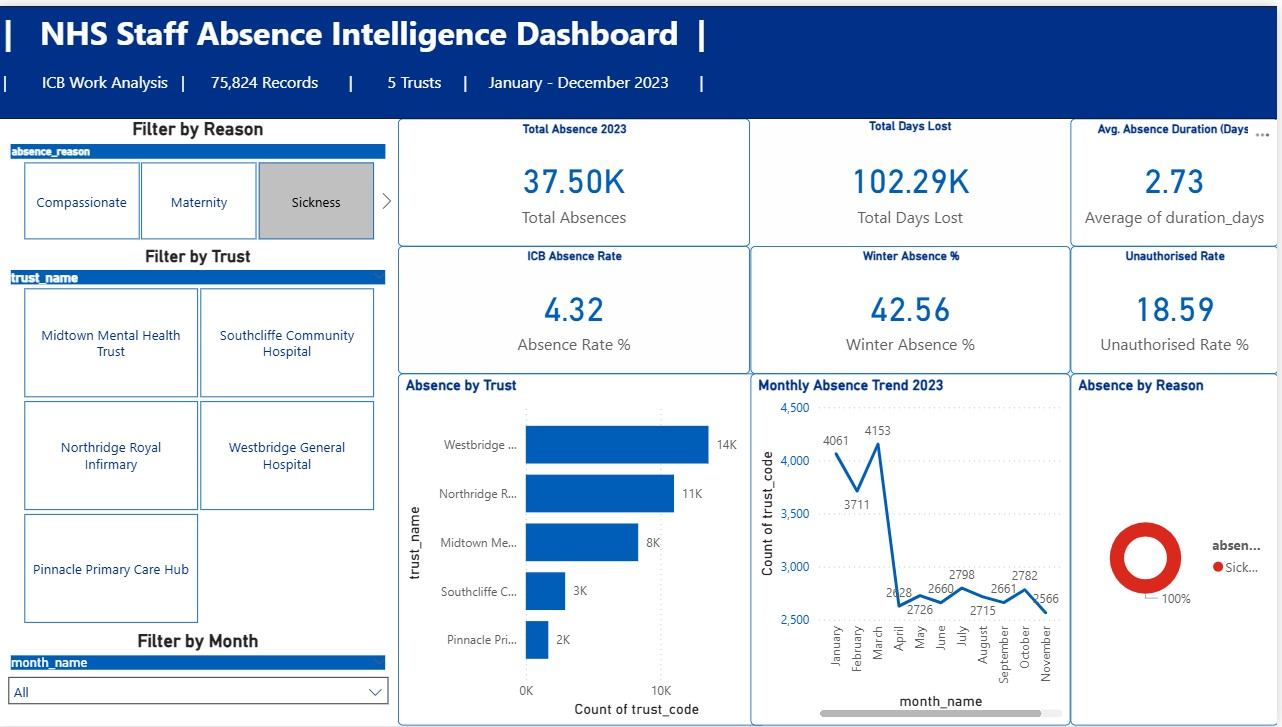

Layout of this report page (visuals, bound fields, positions):
{"tool":"powerbi","page":{"name":"Page 1","canvas":[1280,720],"ordinal":0},"visuals":[{"type":"card","title":"Total Absence 2023","fields":{"Values":["_Measures.Total Absences"]},"box":[400,112,352,128],"z":0},{"type":"card","title":"Total Days Lost","fields":{"Values":["_Measures.Total Days Lost"]},"box":[752,112,320,128],"z":1000},{"type":"card","title":"Avg.  Absence Duration (Days)","fields":{"Values":["Avg(nhs_staff_absence.duration_days)"]},"box":[1072,112,208,128],"z":2000},{"type":"clusteredBarChart","title":"Absence by Trust","fields":{"Category":["nhs_staff_absence.trust_name"],"Y":["CountNonNull(nhs_staff_absence.trust_code)"]},"box":[400,368,368,352],"z":3000},{"type":"lineChart","title":"Monthly Absence Trend 2023","fields":{"Y":["CountNonNull(nhs_staff_absence.trust_code)"],"Category":["nhs_staff_absence.month_name"]},"box":[752,368,320,352],"z":4000},{"type":"donutChart","title":"Absence by Reason","fields":{"Category":["nhs_staff_absence.absence_reason"],"Y":["CountNonNull(nhs_staff_absence.trust_code)"]},"box":[1072,368,208,352],"z":5000},{"type":"slicer","title":"Filter by Trust","fields":{"Values":["nhs_staff_absence.trust_name"]},"box":[0,240,400,384],"z":6000},{"type":"slicer","title":"Filter by Reason","fields":{"Values":["nhs_staff_absence.absence_reason"]},"box":[0,112,400,128],"z":7000},{"type":"slicer","title":"Filter by Month","fields":{"Values":["nhs_staff_absence.month_name"]},"box":[0,624,400,96],"z":8000},{"type":"card","title":"ICB Absence Rate","fields":{"Values":["_Measures.Absence Rate %"]},"box":[400,240,352,128],"z":9000},{"type":"card","title":"Winter Absence %","fields":{"Values":["_Measures.Winter Absence %"]},"box":[752,240,320,128],"z":10000},{"type":"card","title":"Unauthorised Rate","fields":{"Values":["_Measures.Unauthorised Rate %"]},"box":[1072,240,208,128],"z":11000},{"type":"textbox","box":[0,0,1280,112],"z":12000}]}

Visuals, with their boxes in screenshot pixels (x1, y1, x2, y2), scaled from the page's 1280x720 canvas onto the 1282x727 screenshot:
"Total Absence 2023" card: 401/113/753/242
"Total Days Lost" card: 753/113/1074/242
"Avg.  Absence Duration (Days)" card: 1074/113/1281/242
"Absence by Trust" clusteredBarChart: 401/372/769/726
"Monthly Absence Trend 2023" lineChart: 753/372/1074/726
"Absence by Reason" donutChart: 1074/372/1281/726
"Filter by Trust" slicer: 0/242/401/630
"Filter by Reason" slicer: 0/113/401/242
"Filter by Month" slicer: 0/630/401/726
"ICB Absence Rate" card: 401/242/753/372
"Winter Absence %" card: 753/242/1074/372
"Unauthorised Rate" card: 1074/242/1281/372
textbox: 0/0/1281/113
